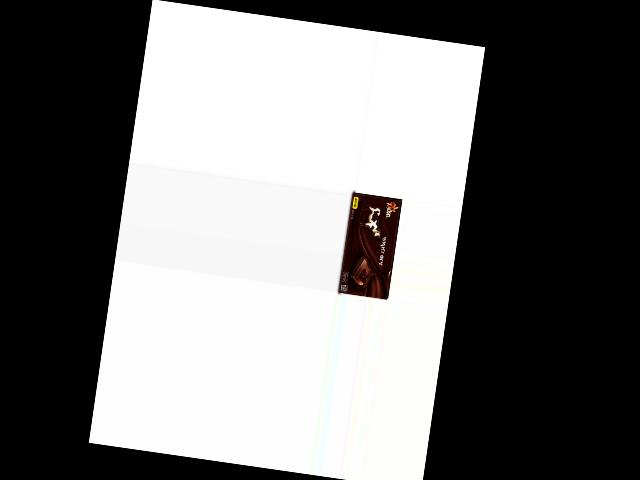chocolate: (337, 189, 403, 298)
